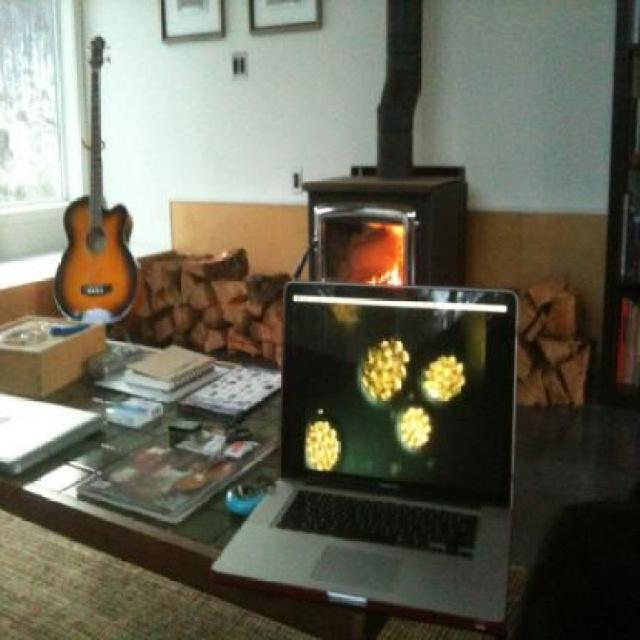Fire: (350, 222, 410, 292)
